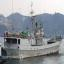fishing boat: (1, 4, 64, 62)
